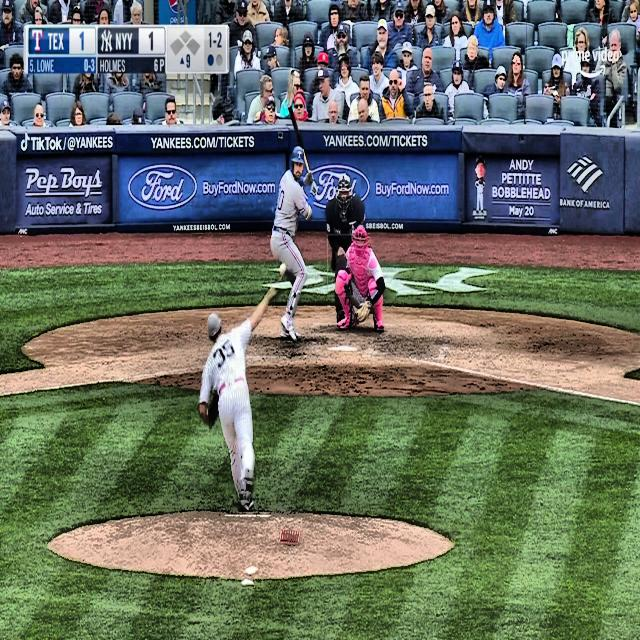baseball: (278, 262, 287, 276)
